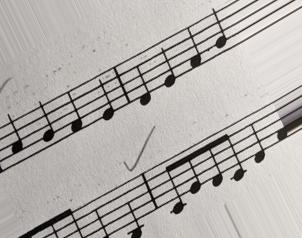note: (91, 74, 118, 122), (2, 111, 26, 161), (32, 99, 57, 146), (61, 89, 86, 134), (206, 6, 230, 52), (181, 24, 204, 72), (132, 55, 153, 107), (158, 42, 178, 90), (247, 117, 267, 165)
